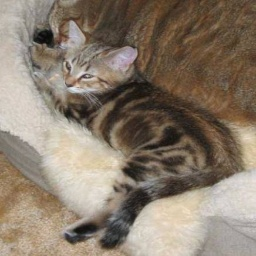cat: (57, 21, 239, 255)
